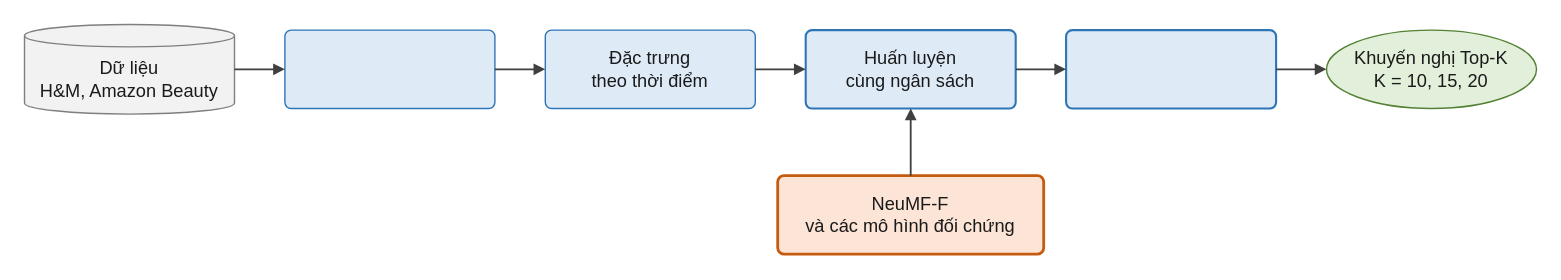
Image size: 1561x280. Some labels were removed from this diagram. The centre of each missing label's shape, as x and y in pixels:
Tiền xử lý hai mẫu khách hàng: the point at 389,68
Đánh giá cuối tập kiểm thử, kiểm định: the point at 1170,68
